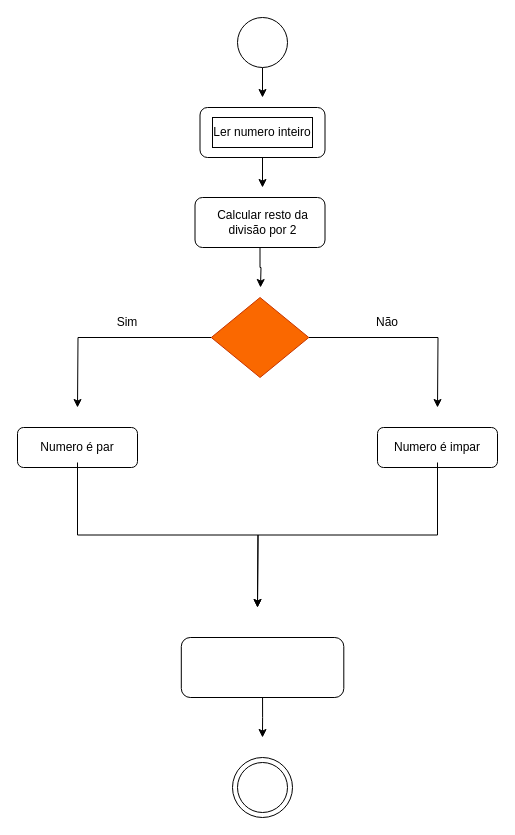
Some shapes in this 515 by 835 pixel diagram are drawn without their labels. The shapes that lost their labels are listed below. From the top down, each one's box as (x1, y1, x2, y2) in pixels, then its label:
(210, 296, 309, 378): Resto = 0?
(180, 636, 344, 698): Exibir resultado para o usuario
